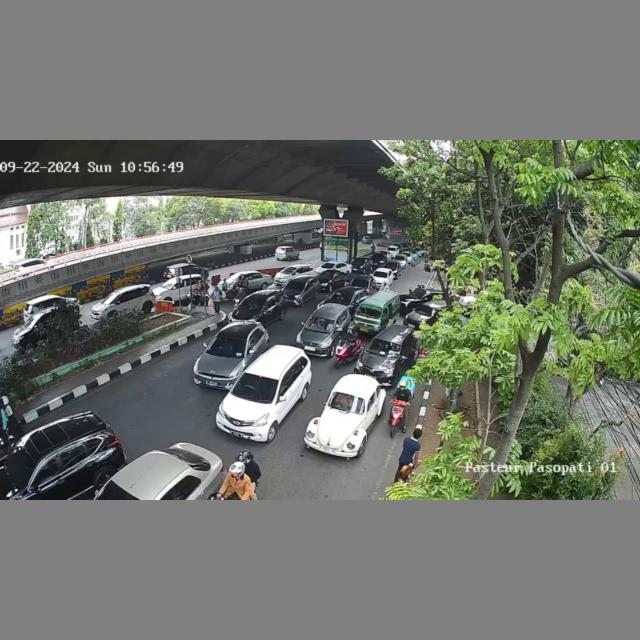windshield: (233, 373, 277, 401), (207, 334, 248, 358), (330, 392, 365, 414), (368, 338, 400, 358), (307, 316, 333, 332), (238, 297, 263, 312), (357, 303, 382, 316), (286, 280, 305, 290)
